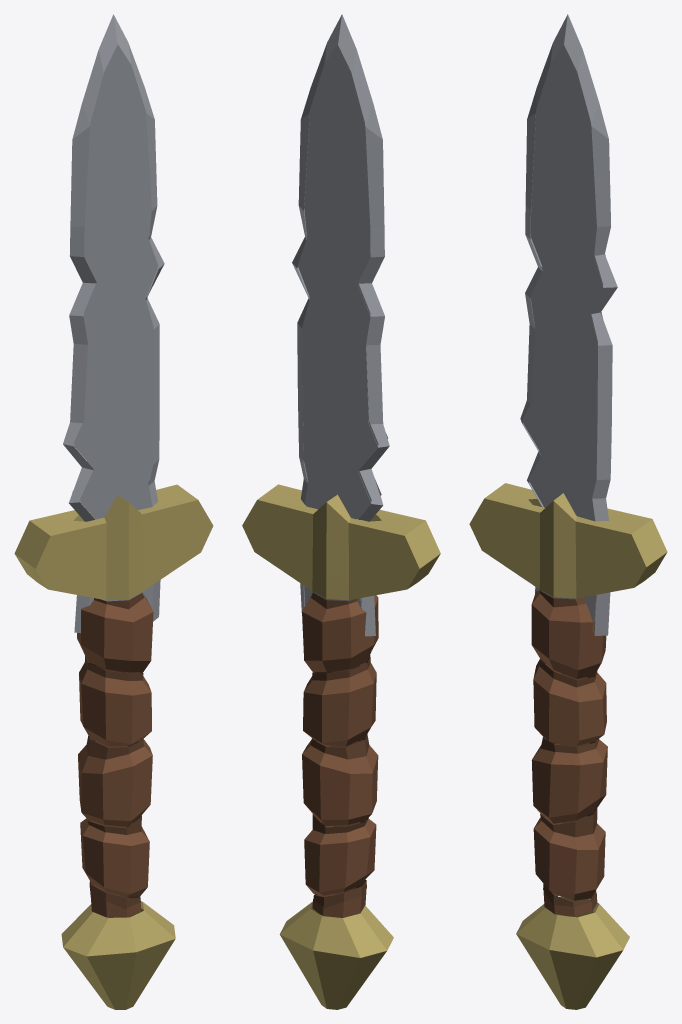
File: armory-assassin-4.glb
3 views of the same model, side by side, from view 1: azimuth 30°, elevation 25°; view 2: azimuth 150°, elevation 25°; view 3: azimuth 330°, elevation 25° (orthographic).
Parts seen in each view (by area): view 1: Dagger_2_Cylinder.011; view 2: Dagger_2_Cylinder.011; view 3: Dagger_2_Cylinder.011.
Boxes of the visible parts, left/top/right/bottom form: Dagger_2_Cylinder.011: left=14, top=14, right=213, bottom=1009; Dagger_2_Cylinder.011: left=242, top=14, right=440, bottom=1009; Dagger_2_Cylinder.011: left=469, top=14, right=667, bottom=1009.
Bounding box in the file's own units: 0.6617 × 3.53 × 0.2683.
